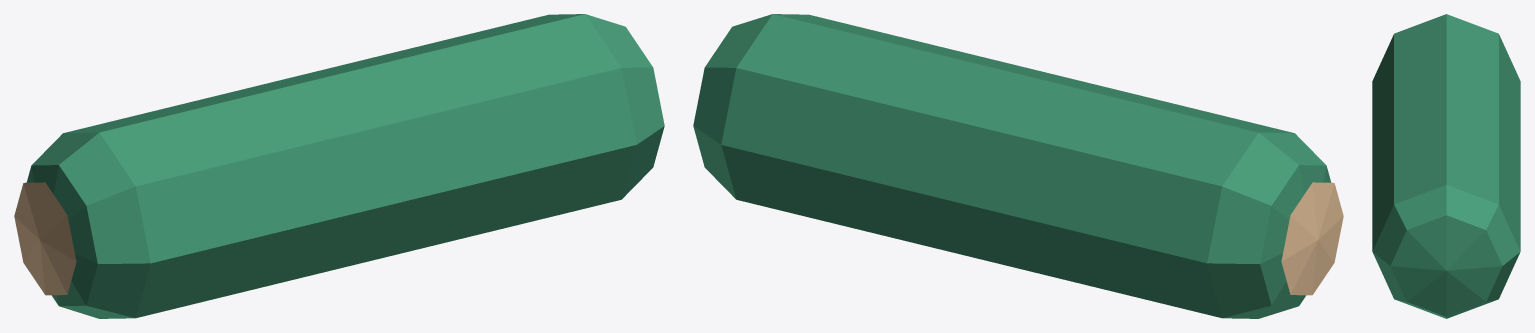
File: cucumber-raw.glb
3 views of the same model, side by side, from view 1: azimuth 30°, elevation 25°; view 2: azimuth 150°, elevation 25°; view 3: azimuth 270°, elevation 25° (orthographic). The views are drawn at different scales.
Visible parts, largest first — view 1: cucumber-raw; view 2: cucumber-raw; view 3: cucumber-raw.
Part boxes in pixels (bbox=[...]): cucumber-raw: bbox=[14, 14, 664, 318]; cucumber-raw: bbox=[693, 14, 1343, 318]; cucumber-raw: bbox=[1372, 14, 1520, 318].
Size of the model in its own units: 0.222 by 0.066 by 0.066.
1 material, 1 textured.
